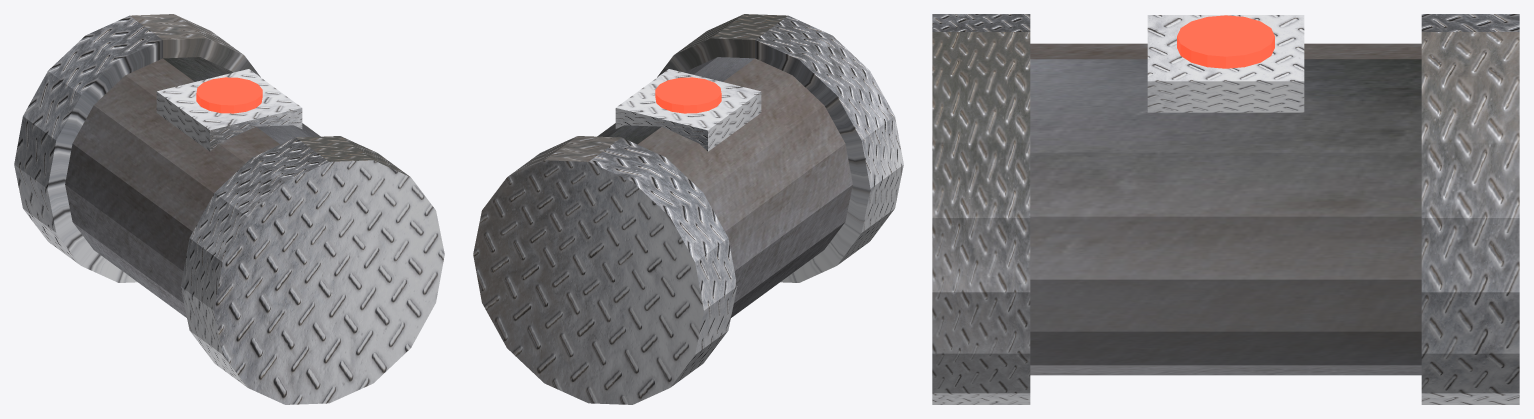
File: Flare.fbx
3 views of the same model, side by side, from view 1: azimuth 30°, elevation 25°; view 2: azimuth 150°, elevation 25°; view 3: azimuth 270°, elevation 25° (orthographic). The views are drawn at different scales.
Visible parts, largest first — view 1: Flare; view 2: Flare; view 3: Flare.
Boxes of the visible parts, x1,y1,x2,y2 form: Flare: [14, 14, 444, 404]; Flare: [473, 14, 903, 404]; Flare: [932, 14, 1519, 404].
Bounding box in the file's own units: 0.25 × 0.375 × 0.25.
